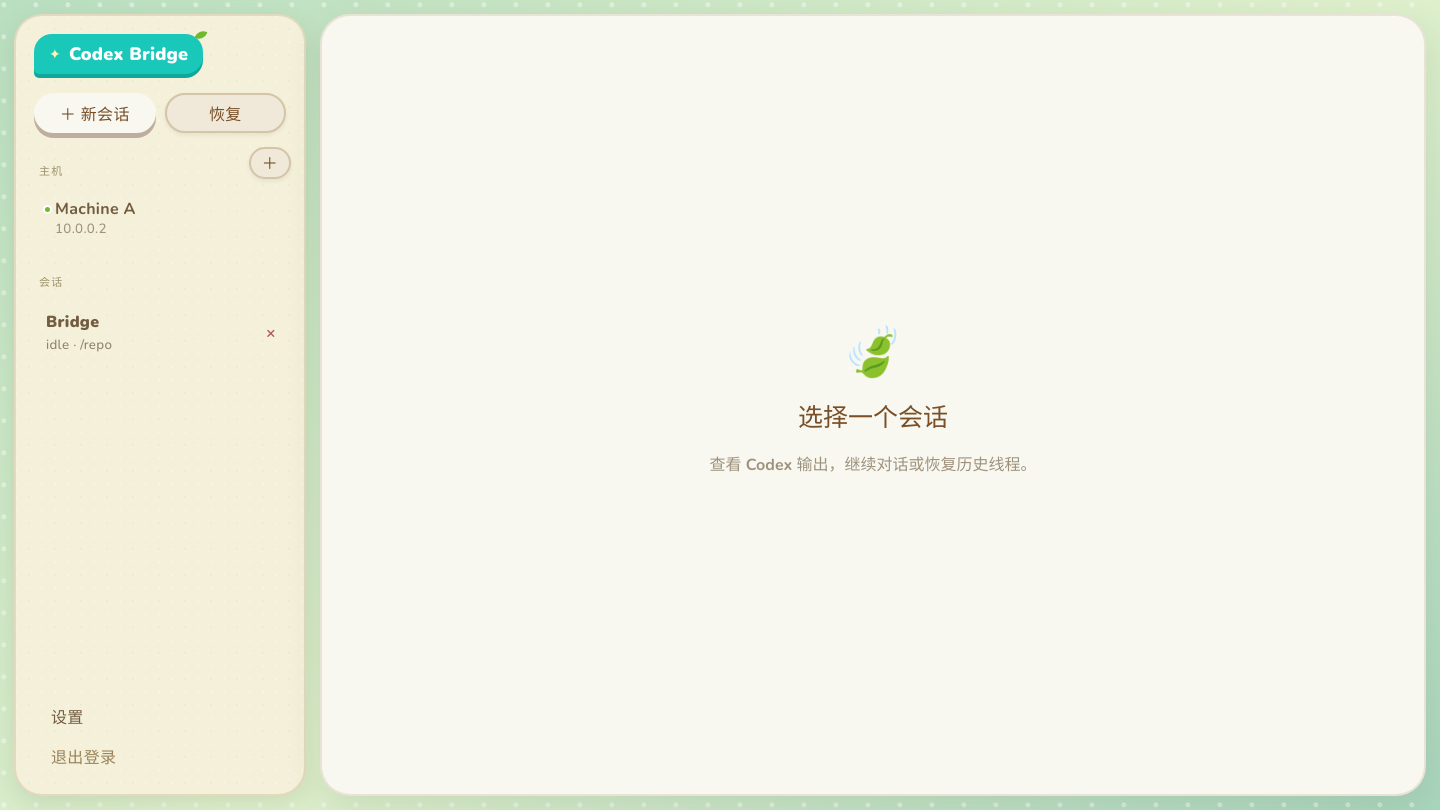
Test: dashboard security and operations › shows a scroll hint when a new Codex message arrives below the viewport
Click the text "Bridge". click: (73, 322)
box: 46,311 -> 99,333
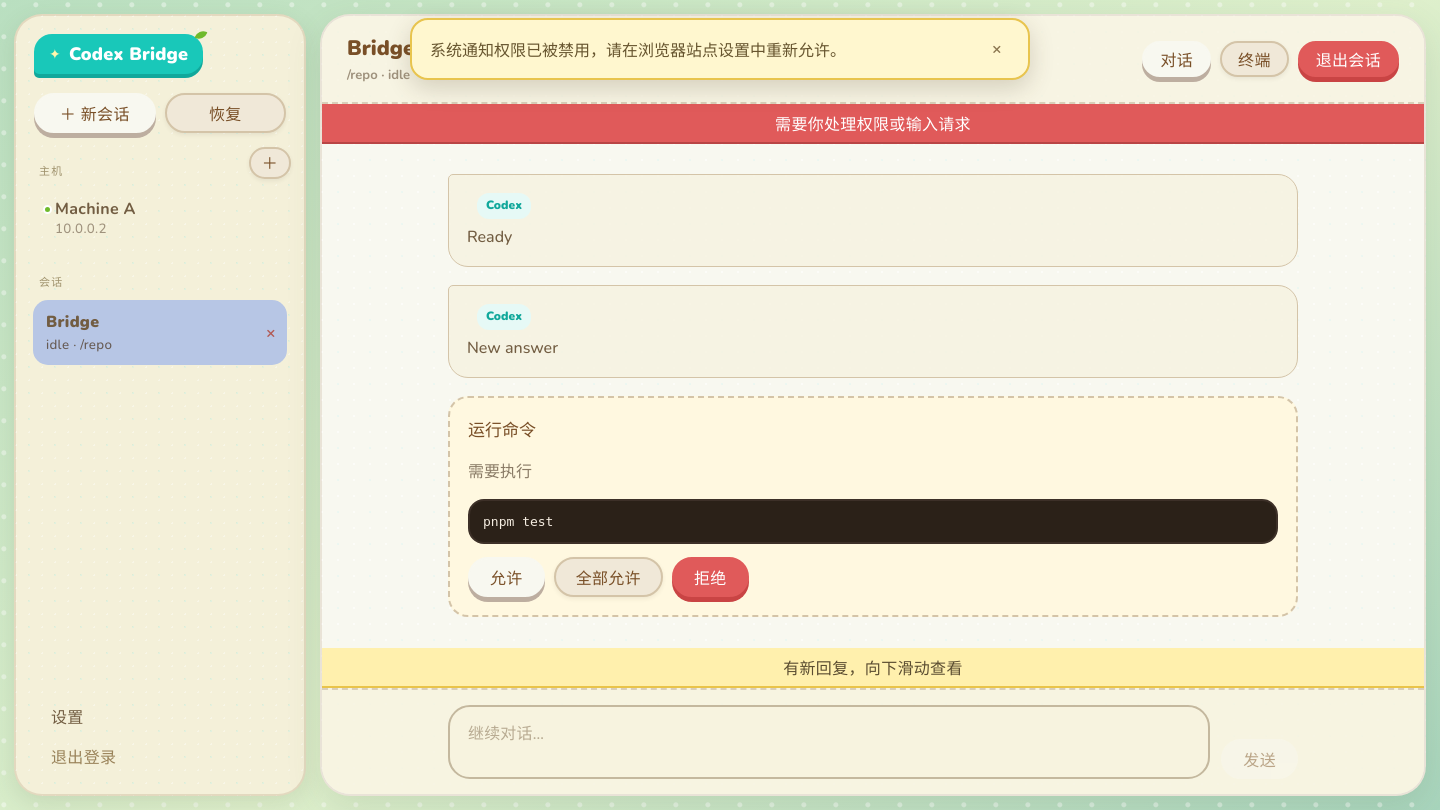
Result: the text "Ready" is shown at 467,226 -> 512,248
Click the button "有新回复，向下滑动查看". click: (873, 668)
box: 322,648 -> 1424,688
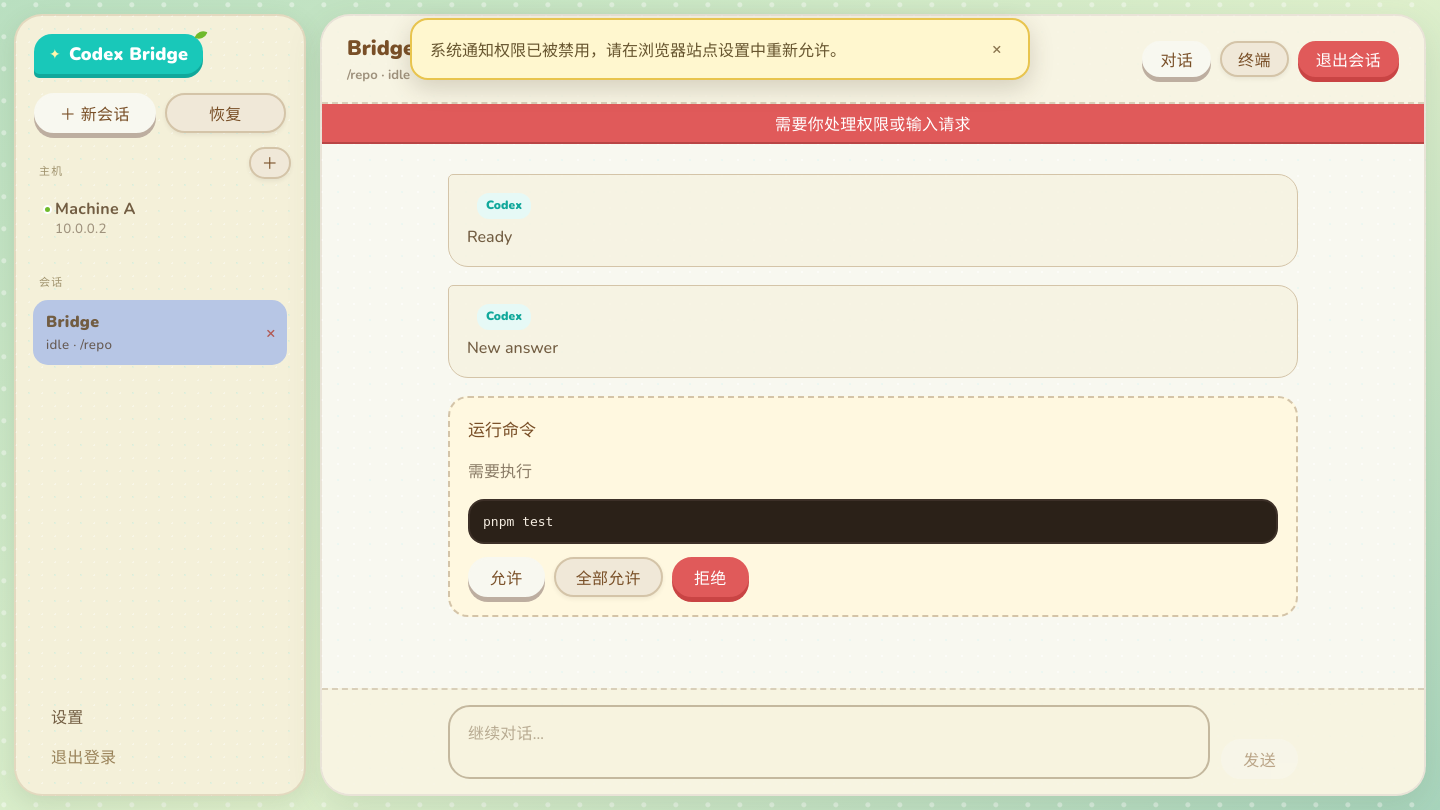
Result: the button "有新回复，向下滑动查看" is gone
